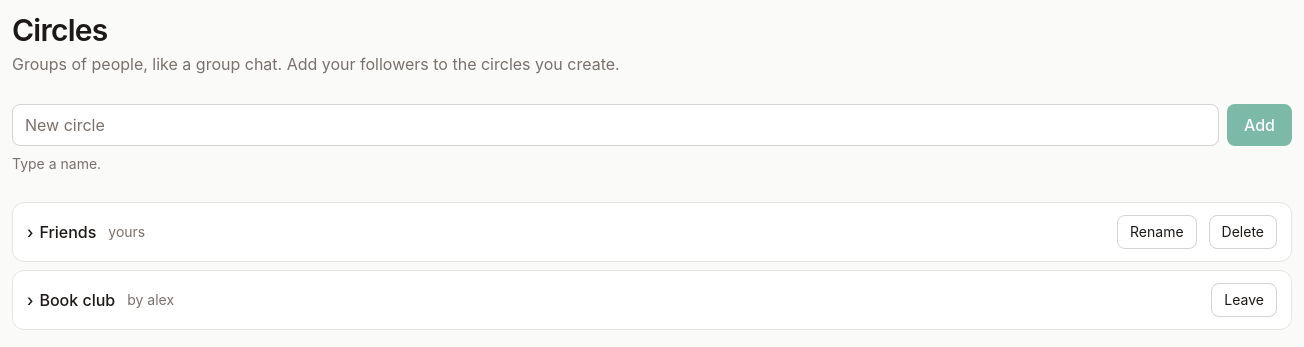
Test: Circles › leaves a circle after confirming
Click the button with aria-label "Leave Book club" at (1244, 300), box [1211, 283, 1277, 317]
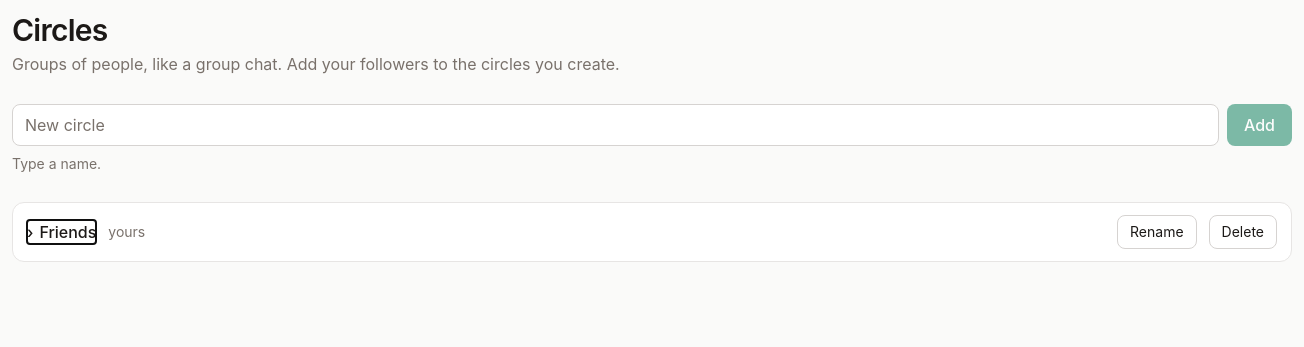
Check: the button "Book club" is gone
